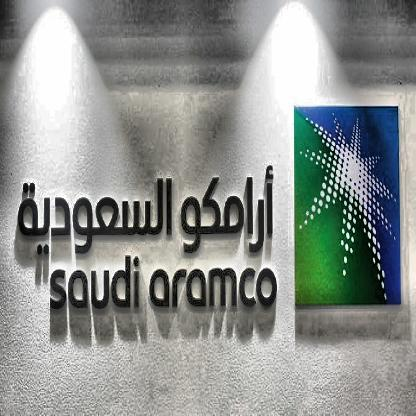Aramco: (293, 105, 396, 304), (150, 266, 281, 311)
